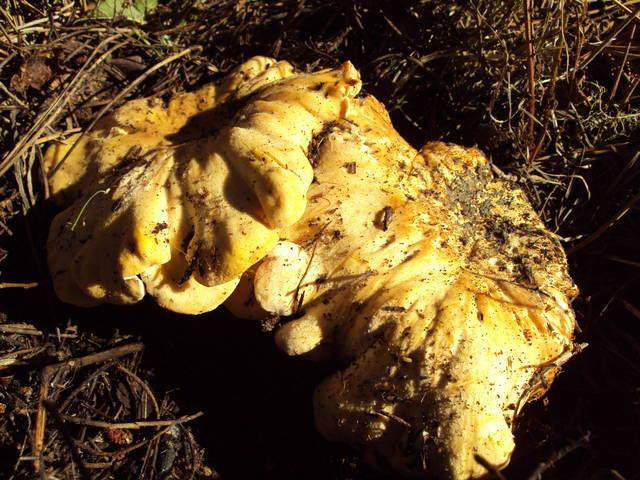edible_mushroom: (36, 53, 585, 478)
